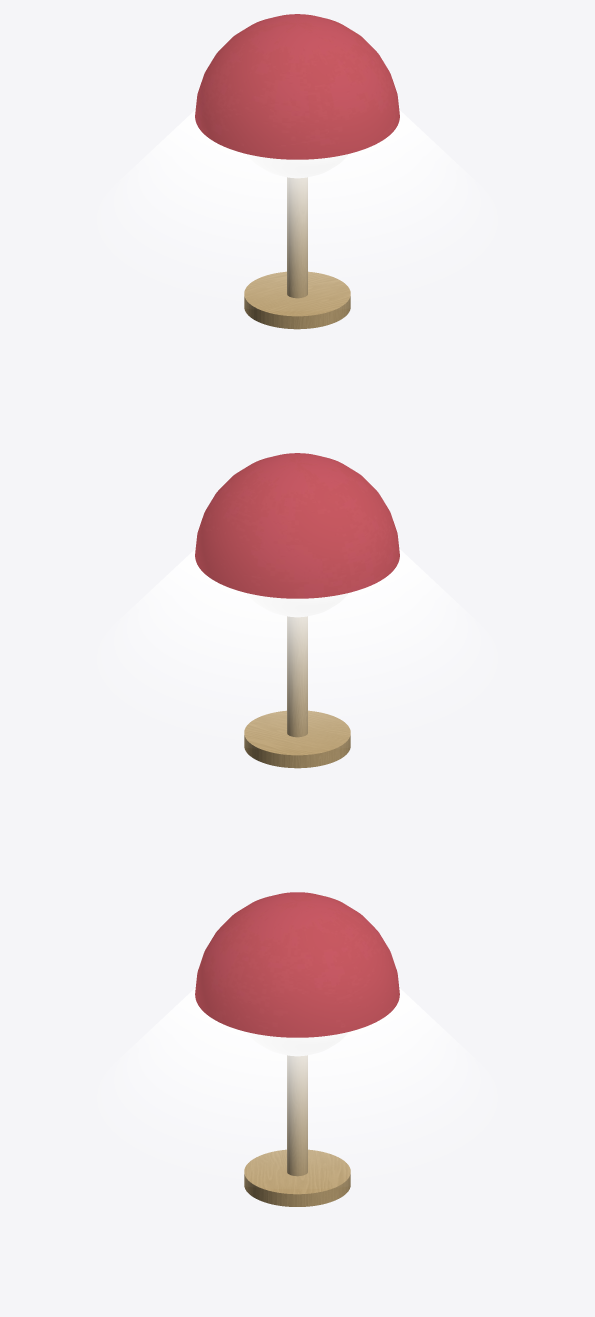
The model's file is RED_ON.glb.
The picture shows the model from 3 angles, top to bottom: view 1: azimuth 30°, elevation 25°; view 2: azimuth 150°, elevation 25°; view 3: azimuth 270°, elevation 25°; orthographic projection.
Parts seen in each view (by area): view 1: LIGHT_DOWN.002, DOME, BASE2, DOME2; view 2: LIGHT_DOWN.002, DOME, BASE2, DOME2; view 3: LIGHT_DOWN.002, DOME, BASE2, DOME2.
Part boxes in pixels (<box>): LIGHT_DOWN.002: <box>114,110,480,279</box>; DOME: <box>195,14,399,159</box>; BASE2: <box>244,178,350,329</box>; DOME2: <box>255,162,339,177</box>; LIGHT_DOWN.002: <box>114,549,480,718</box>; DOME: <box>195,453,399,598</box>; BASE2: <box>244,617,350,768</box>; DOME2: <box>255,601,339,616</box>; LIGHT_DOWN.002: <box>114,988,480,1157</box>; DOME: <box>195,892,399,1037</box>; BASE2: <box>244,1056,350,1206</box>; DOME2: <box>255,1040,339,1055</box>.
Bounding box in the file's own units: 0.7974 × 0.439 × 0.7974.
4 materials, 4 textured.
